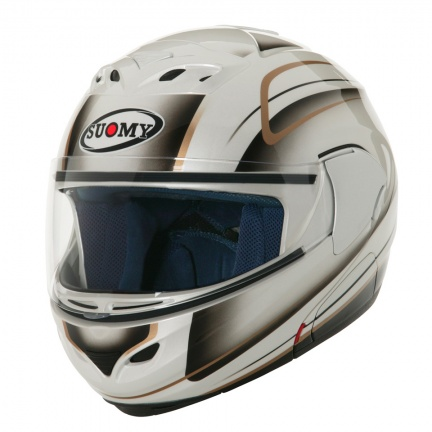helmet: (44, 23, 388, 372)
